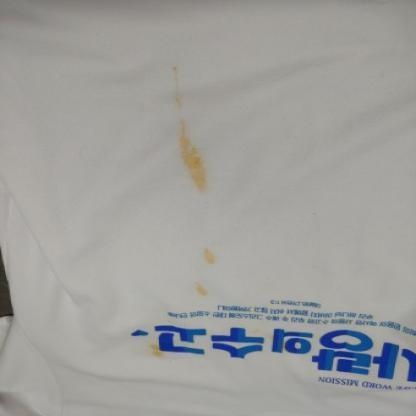kimchi: (172, 130, 209, 194), (171, 57, 180, 108), (192, 282, 206, 299), (147, 345, 162, 358), (174, 118, 183, 136), (207, 250, 219, 263), (253, 328, 261, 339), (264, 342, 272, 350), (268, 331, 272, 337)
